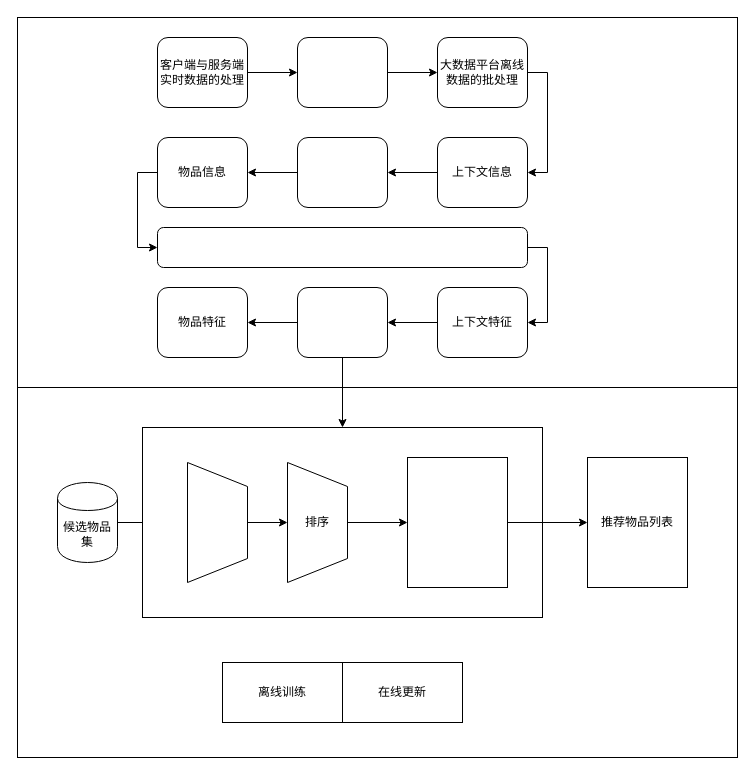
Image size: 755x775. Some labels were removed from this diagram. The shapes that lost their labels are listed below. From the top down, each one's centre as x and y in pixels, then its label:
point (342, 72): 流处理平台的准实时处理
point (342, 172): 用户信息
point (342, 247): 特征工程
point (342, 322): 用户特征
point (217, 522): 召回
point (457, 522): 补充策略 多样性 实时性 流行度 冷启动 ...
